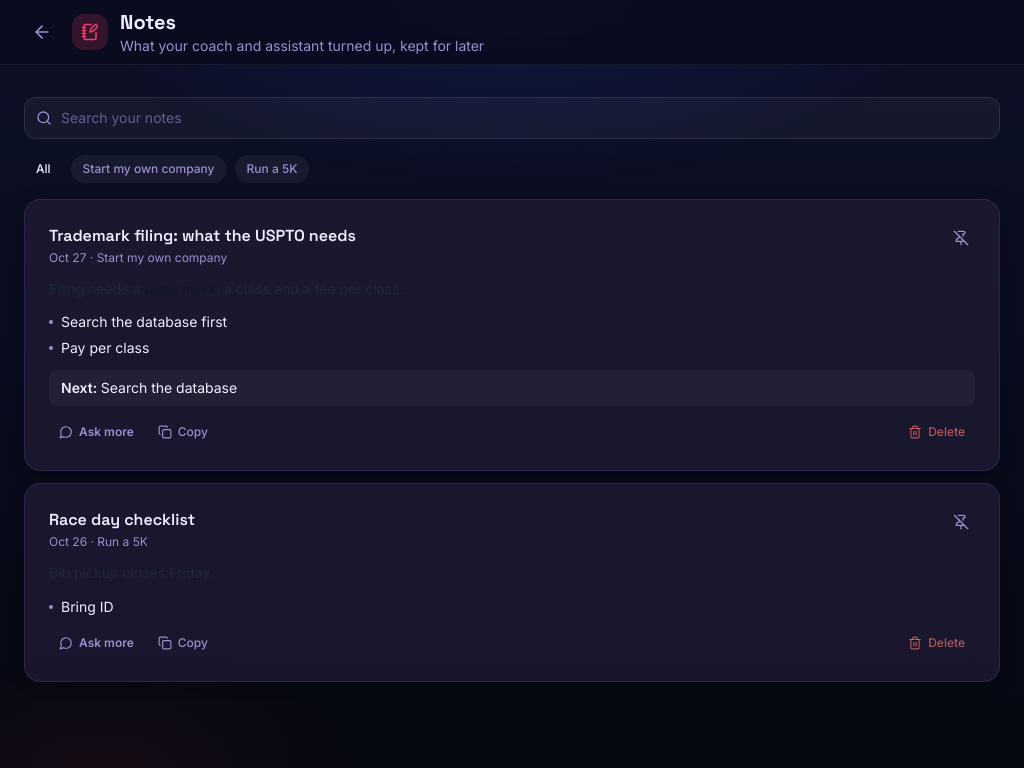
Scenario: the Notes page › searches, and filters to one goal or one task
Expected: the heading "Race day checklist" is shown, [49,508,195,532]
Type "bib" into the field labelled "Search your notes".
click(512, 118); type("bib")  # box [24,97,1000,139]
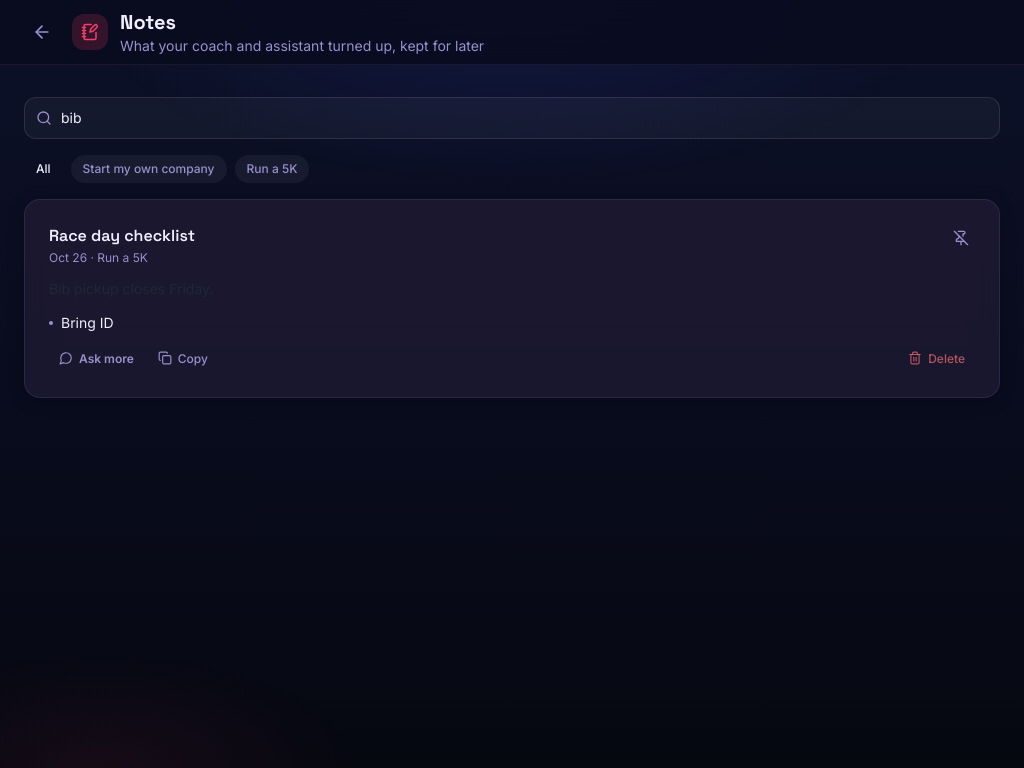
Expected: the heading "Race day checklist" is shown, [49,224,195,248]
Expected: the heading "Trademark filing: what the USPTO needs" is gone
